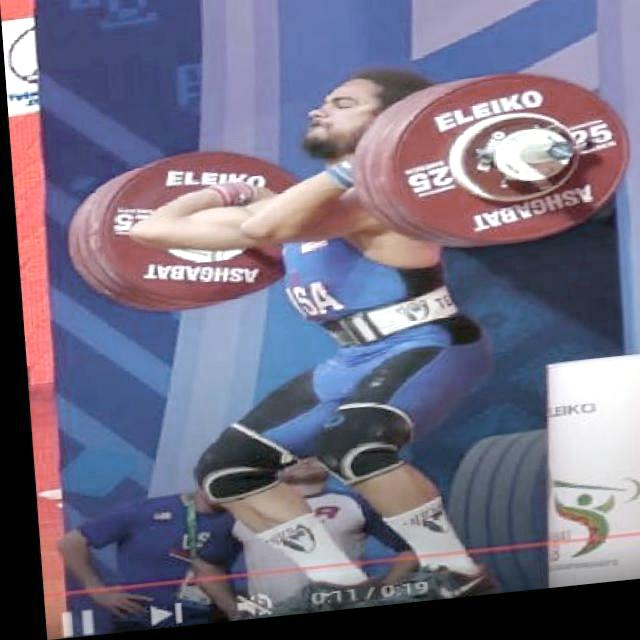barbell: (375, 73, 639, 270)
